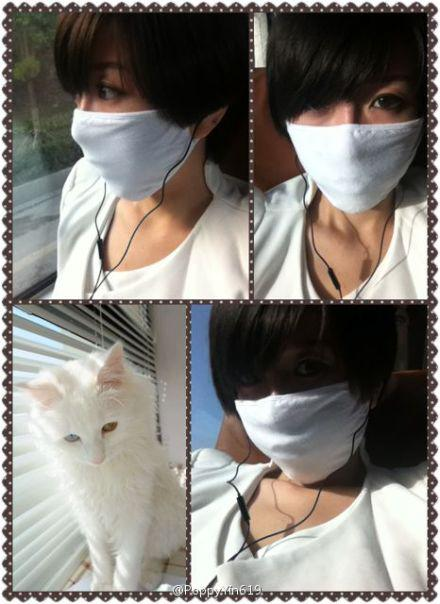OK: (68, 62, 197, 195), (237, 348, 362, 476), (296, 80, 418, 206)
